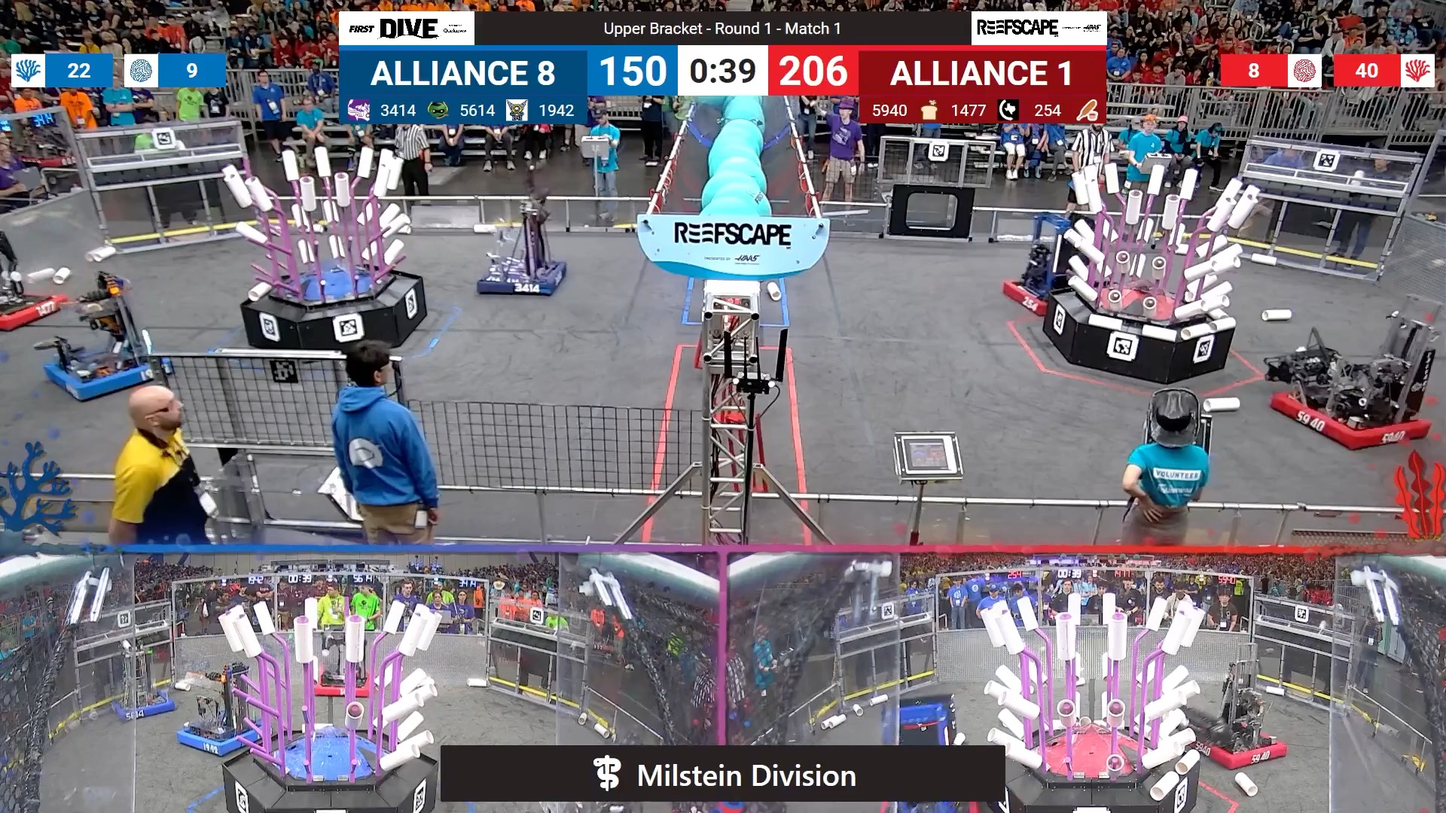bumpers: (1259, 377, 1431, 452), (31, 344, 179, 401), (1177, 721, 1293, 774), (173, 714, 273, 761), (475, 255, 576, 299), (0, 277, 73, 335), (996, 274, 1068, 319), (103, 692, 182, 726)
